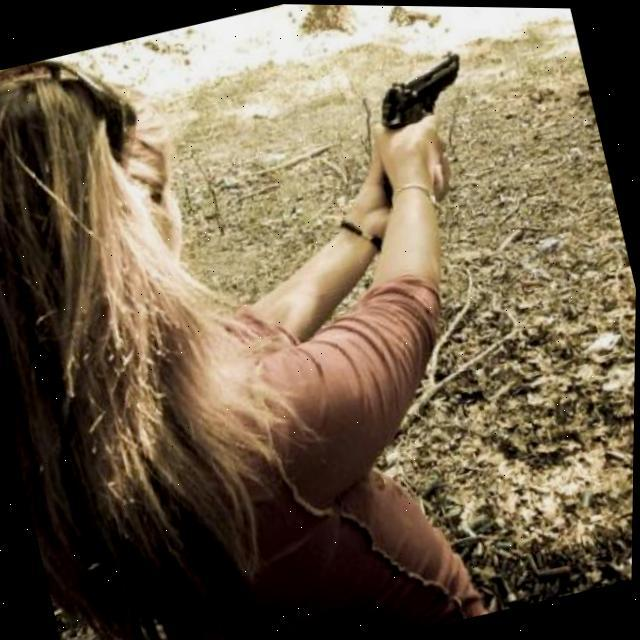gun: (366, 47, 472, 138)
